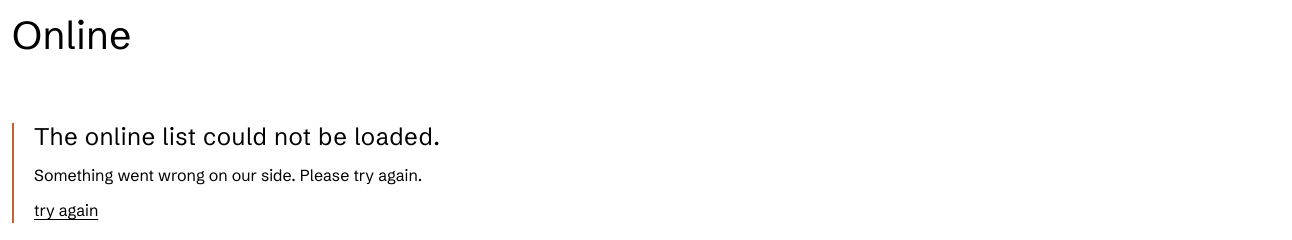
Test: OnlinePage › F-105: shows the error with "try again", which loads the list again
Check: the message shows "The online list could not be loaded.", box [34, 122, 441, 151]
Check: the message shows "Something went wrong on our side. Please try again.", box [34, 165, 422, 185]
Click the button "try again" at (66, 211), box [34, 199, 98, 223]
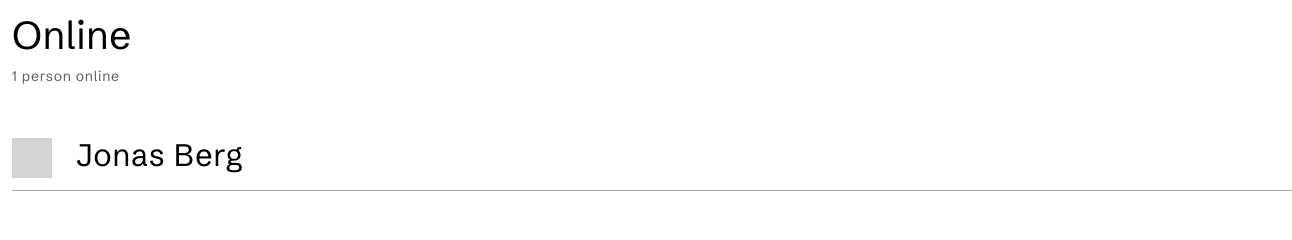
Check: the list named "Online" is shown, box [12, 118, 1291, 191]
